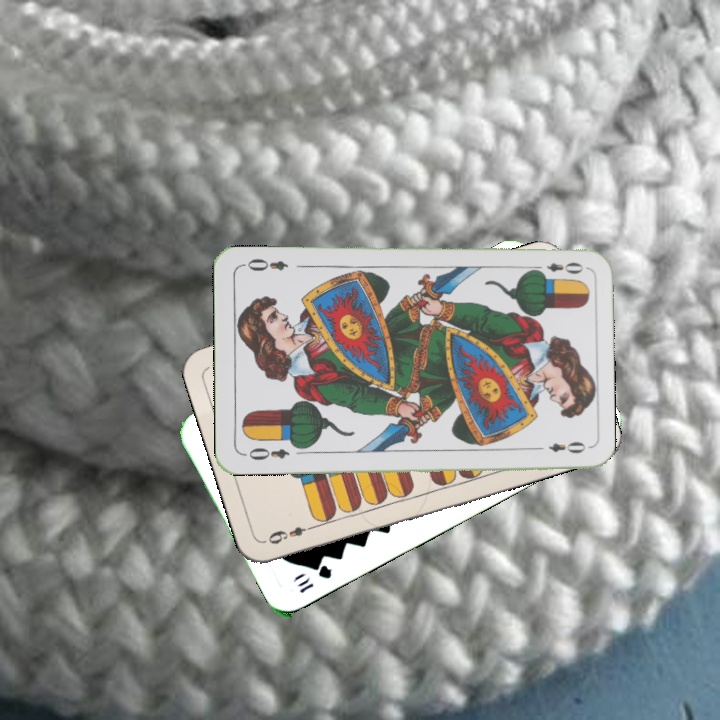E9: (261, 521, 319, 547)
EO: (528, 258, 585, 278), (240, 443, 292, 463)
G10: (292, 560, 335, 596)
